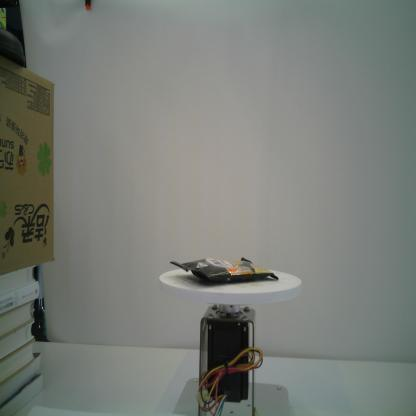Instant Drink: (169, 256, 279, 284)
